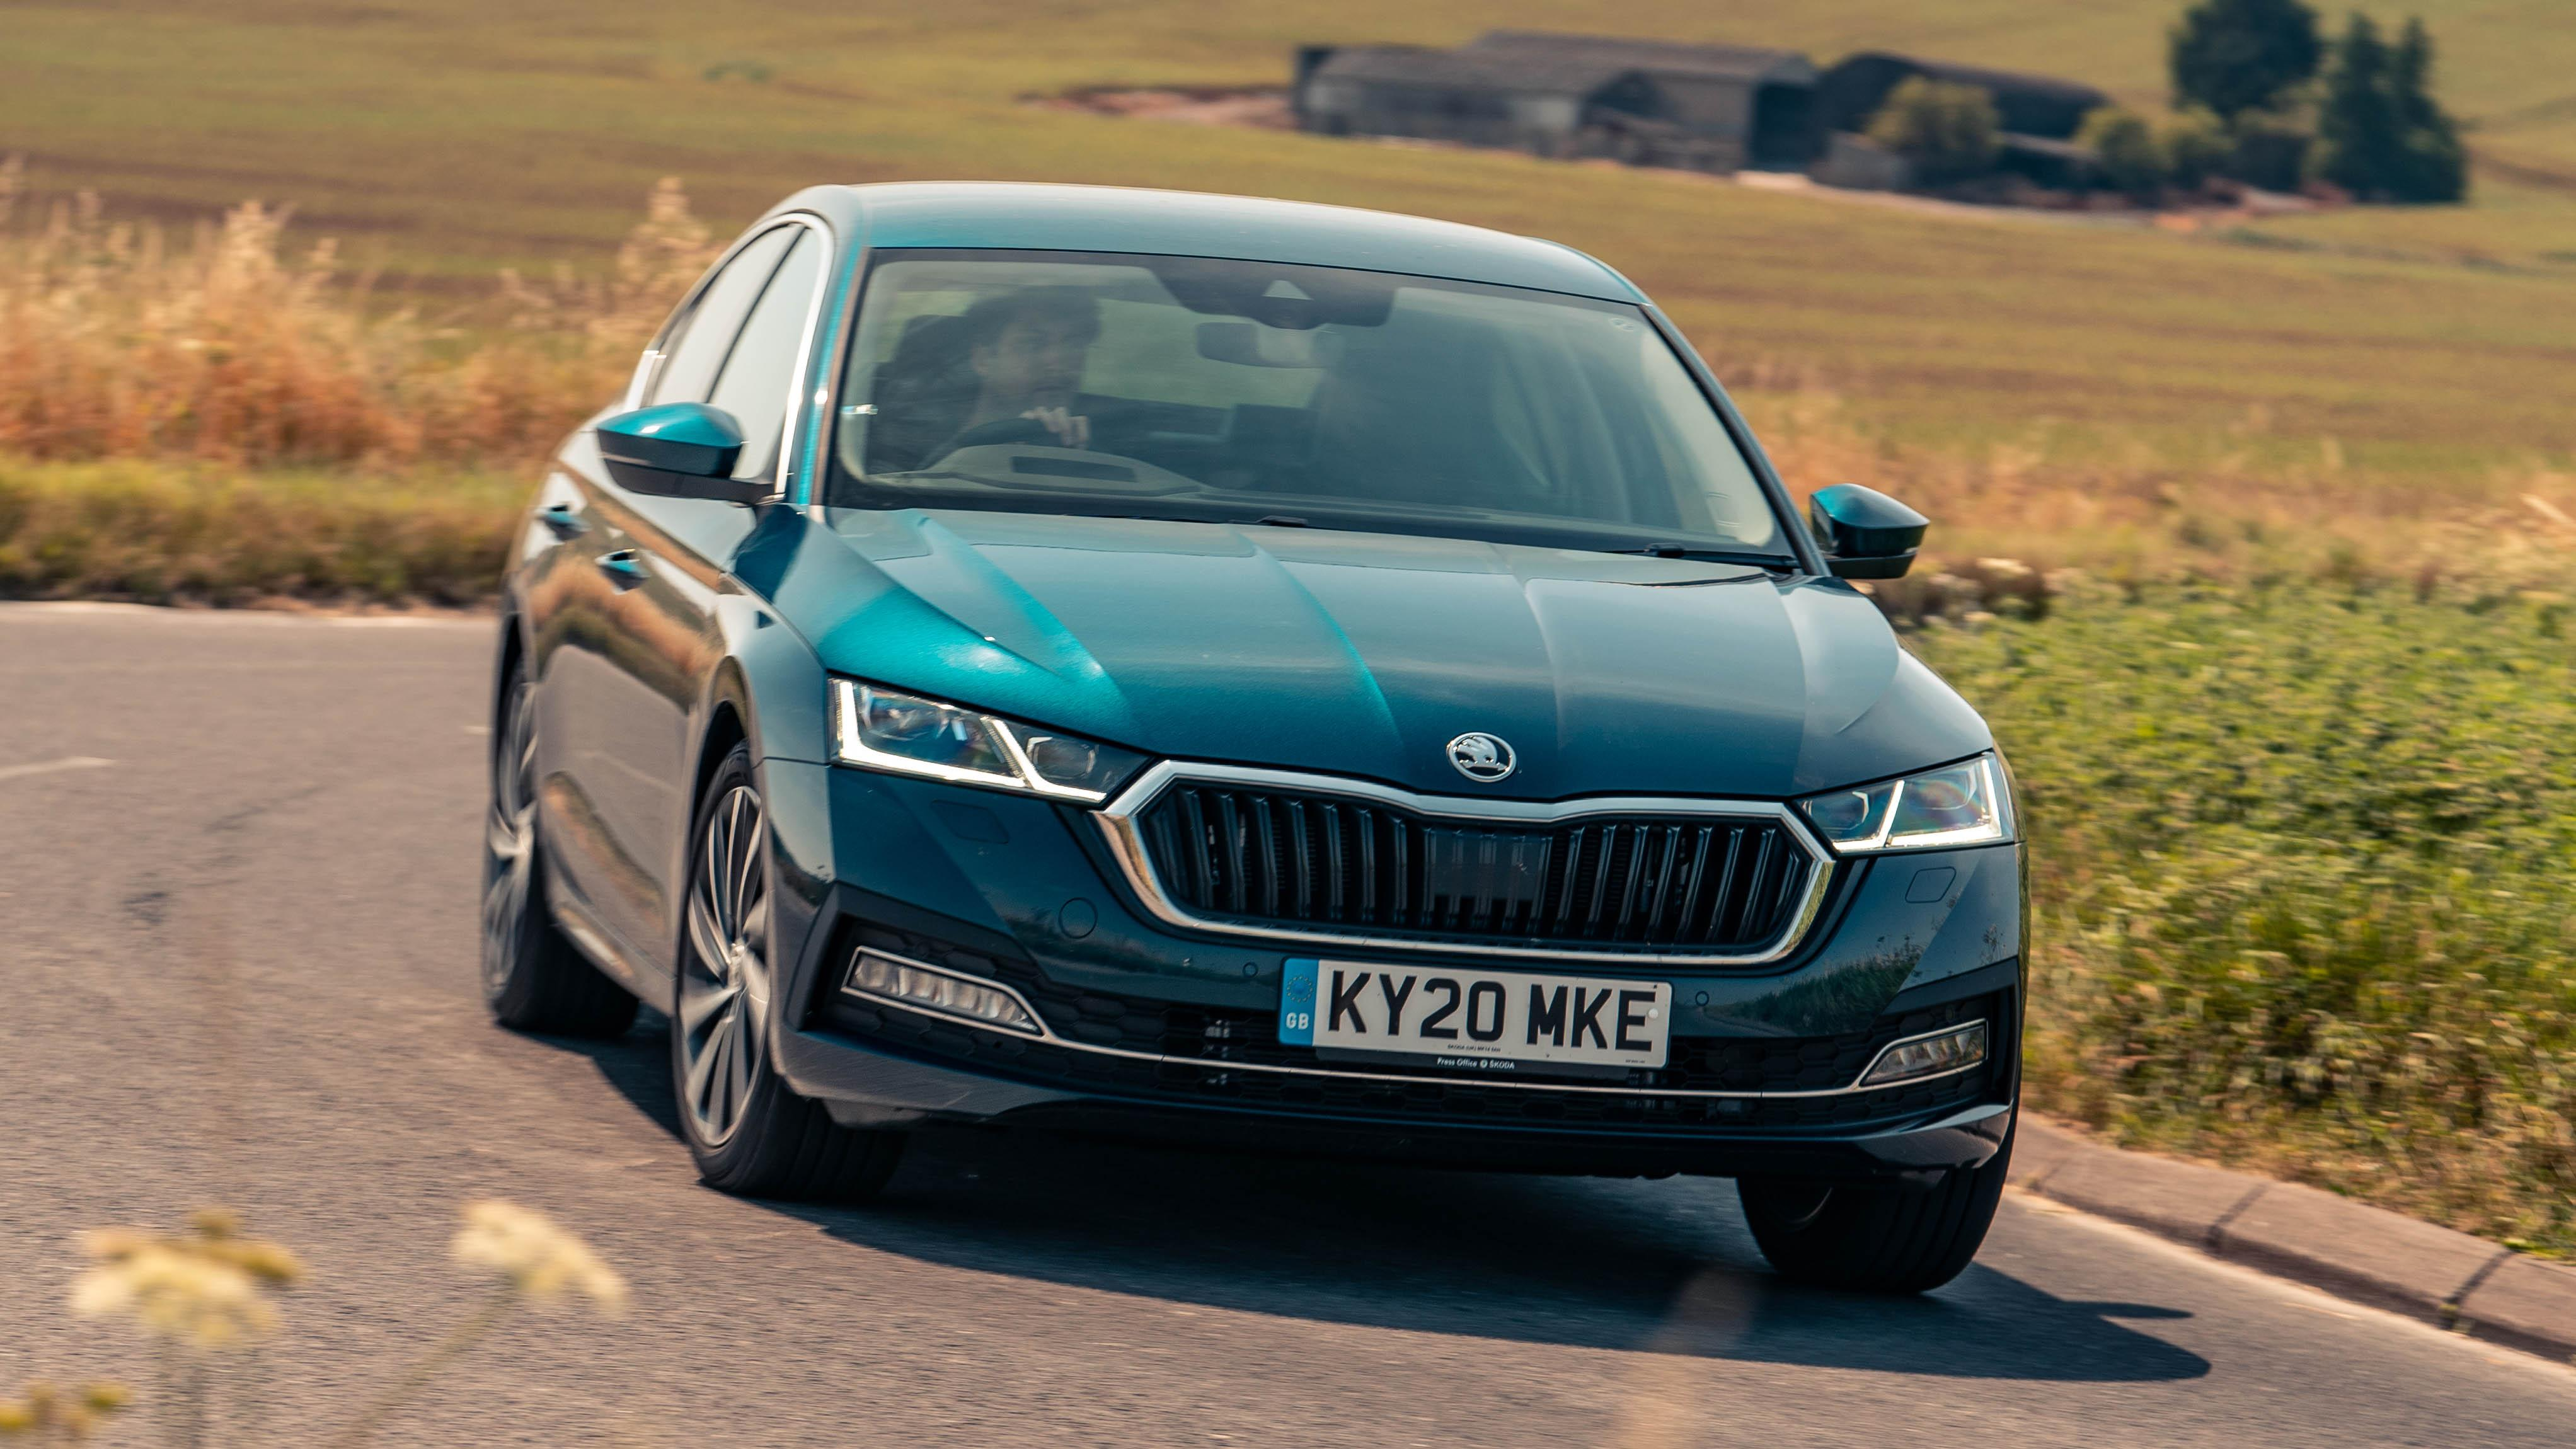skoda: (1419, 706, 1530, 796)
